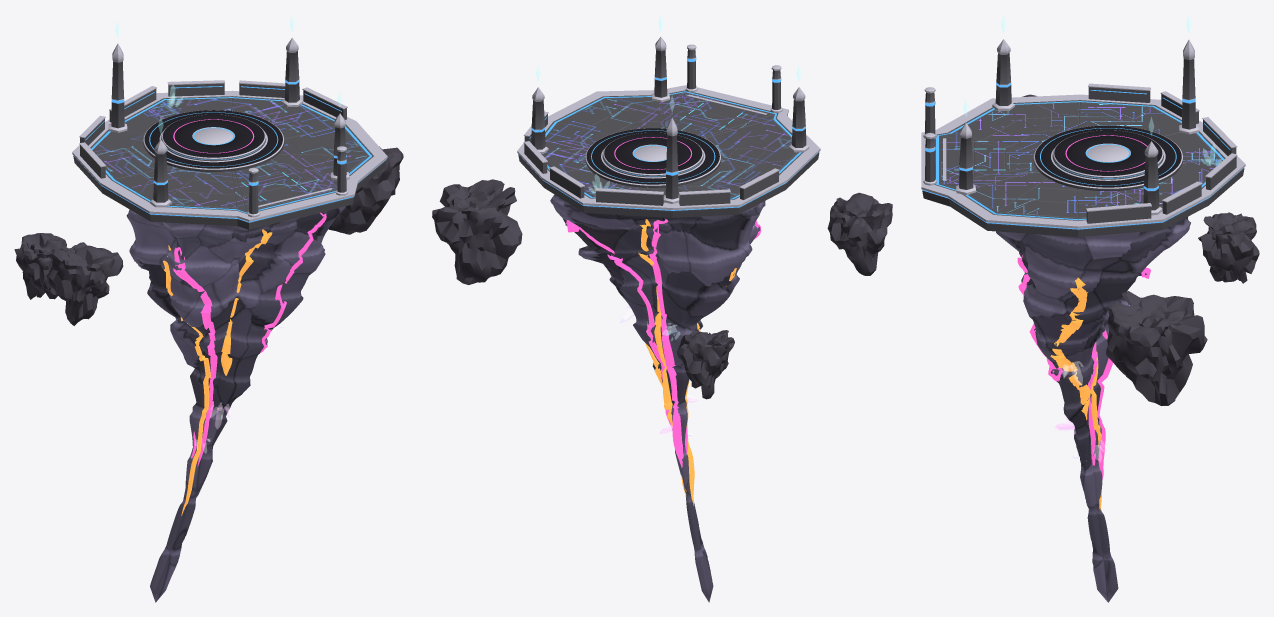
Rendered from Island_02_web.glb.
3 views of the same model, side by side, from view 1: azimuth 30°, elevation 25°; view 2: azimuth 150°, elevation 25°; view 3: azimuth 270°, elevation 25° (orthographic). The views are drawn at different scales.
Parts seen in each view (by area): view 1: Island_02_Rock, Island_02_Deck, Island_02, Island_02_Architecture, Island_02_Plaza, Island_02_Veins; view 2: Island_02_Deck, Island_02_Rock, Island_02, Island_02_Architecture, Island_02_Plaza, Island_02_Veins; view 3: Island_02_Deck, Island_02_Rock, Island_02, Island_02_Architecture, Island_02_Plaza, Island_02_Veins.
Boxes of the visible parts, x1,y1,x2,y2 form: Island_02_Rock: (126, 206, 345, 602); Island_02_Deck: (72, 90, 387, 229); Island_02: (14, 84, 403, 453); Island_02_Architecture: (79, 15, 349, 217); Island_02_Plaza: (143, 110, 284, 171); Island_02_Veins: (163, 212, 326, 515); Island_02_Deck: (517, 85, 820, 217); Island_02_Rock: (550, 194, 765, 602); Island_02: (432, 174, 892, 441); Island_02_Architecture: (523, 15, 809, 205); Island_02_Plaza: (585, 128, 720, 187); Island_02_Veins: (566, 219, 761, 506); Island_02_Deck: (921, 94, 1245, 237); Island_02_Rock: (996, 217, 1190, 602); Island_02: (1022, 94, 1259, 462); Island_02_Architecture: (923, 15, 1237, 223); Island_02_Plaza: (1033, 125, 1182, 191); Island_02_Veins: (1017, 255, 1150, 509).
Bounding box in the file's own units: 30.89 × 40.29 × 20.99.
13 materials, 1 textured.
